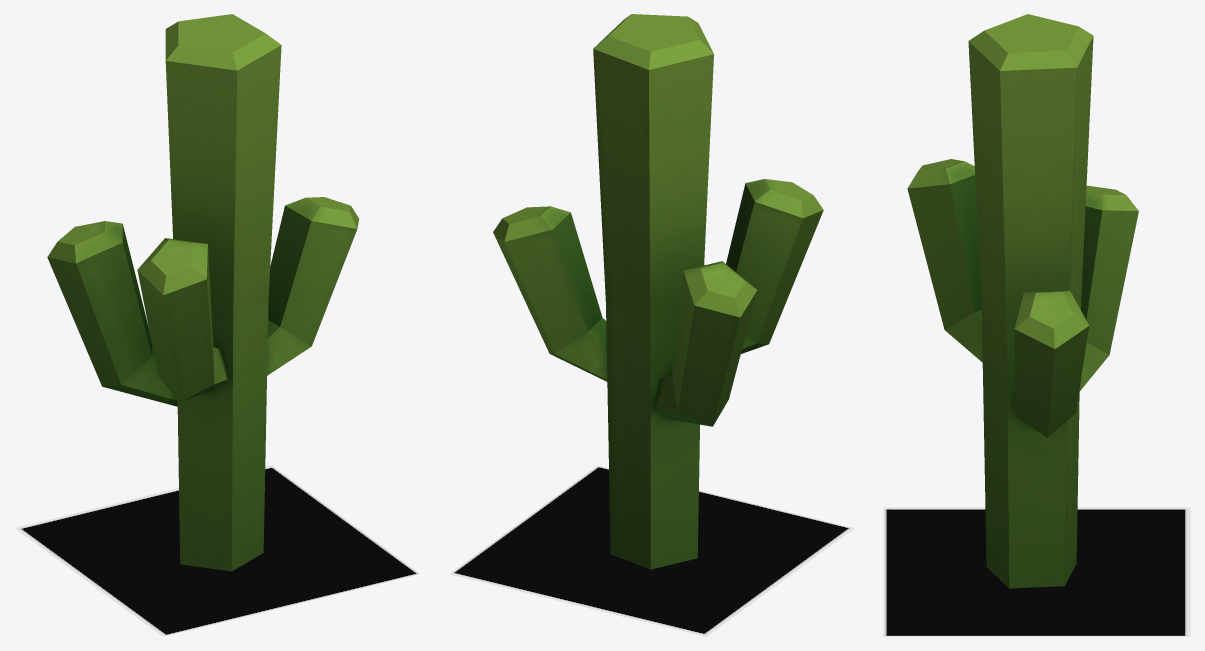
Rendered from 1x1_cactus.FBX.
3 renders of one model, left to right at view 1: azimuth 30°, elevation 25°; view 2: azimuth 150°, elevation 25°; view 3: azimuth 270°, elevation 25°, orthographic. The views are drawn at different scales.
Visible parts, largest first — view 1: 1x1_cactus, 1x1_cactus_soft_shadow; view 2: 1x1_cactus, 1x1_cactus_soft_shadow; view 3: 1x1_cactus, 1x1_cactus_soft_shadow.
Part boxes in pixels (x1,y1,x2,y2): 1x1_cactus: (47,14,359,571); 1x1_cactus_soft_shadow: (14,465,420,636); 1x1_cactus: (493,14,823,569); 1x1_cactus_soft_shadow: (449,465,854,636); 1x1_cactus: (907,14,1138,588); 1x1_cactus_soft_shadow: (883,507,1190,636).
Size of the model in its own units: 987 by 1760 by 908.
